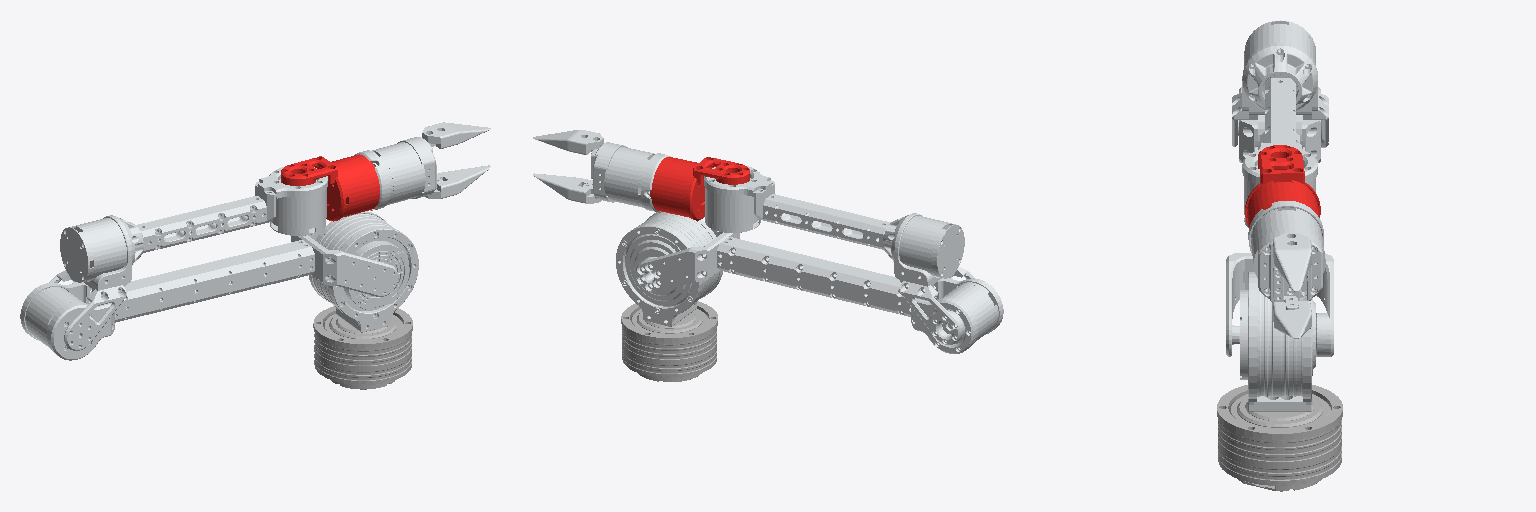
URDF robot description (a1_arm_v3):
<?xml version="1.0" encoding="utf-8"?>
<!-- This URDF was automatically created by SolidWorks to URDF Exporter! Originally created by [author] ([email redacted]) 
     Commit Version: 1.6.0-4-g7f85cfe  Build Version: 1.6.7995.38578
     For more information, please see http://wiki.ros.org/sw_urdf_exporter -->
<robot
  name="a1_arm_v3">
  <link
    name="arm_base_link">
    <inertial>
      <origin
        xyz="-5.0929E-05 -1.2945E-05 -0.017332"
        rpy="0 0 0" />
      <mass
        value="1.00" />
      <inertia
        ixx="0.00028666"
        ixy="-1.5892E-07"
        ixz="1.4172E-08"
        iyy="0.00028649"
        iyz="5.0884E-09"
        izz="0.00045899" />
    </inertial>
    <visual>
      <origin
        xyz="0 0 0"
        rpy="0 0 0" />
      <geometry>
        <mesh
          filename="package://a1_arm_v3/meshes/arm_base_link.STL" />
      </geometry>
      <material
        name="">
        <color
          rgba="0.75294 0.75294 0.75294 1" />
      </material>
    </visual>
    <collision>
      <origin
        xyz="0 0 0"
        rpy="0 0 0" />
      <geometry>
        <mesh
          filename="package://a1_arm_v3/meshes/arm_base_link.STL" />
      </geometry>
    </collision>
  </link>
  <link
    name="arm_seg1">
    <inertial>
      <origin
        xyz="0.0008545 -3.0801E-05 0.063737"
        rpy="0 0 0" />
      <mass
        value="1.322" />
      <inertia
        ixx="0.00056364"
        ixy="1.1493E-08"
        ixz="-9.7293E-09"
        iyy="0.00035434"
        iyz="3.8164E-09"
        izz="0.00033273" />
    </inertial>
    <visual>
      <origin
        xyz="0 0 0"
        rpy="0 0 0" />
      <geometry>
        <mesh
          filename="package://a1_arm_v3/meshes/arm_seg1.STL" />
      </geometry>
      <material
        name="">
        <color
          rgba="0.89804 0.91765 0.92941 1" />
      </material>
    </visual>
    <collision>
      <origin
        xyz="0 0 0"
        rpy="0 0 0" />
      <geometry>
        <mesh
          filename="package://a1_arm_v3/meshes/arm_seg1.STL" />
      </geometry>
    </collision>
  </link>
  <joint
    name="arm_joint1"
    type="revolute">
    <limit effort="87" lower="-3.14" upper="3.14" velocity="2" />
    <origin
      xyz="0 0 0"
      rpy="0 0 1.5708" />
    <parent
      link="arm_base_link" />
    <child
      link="arm_seg1" />
    <axis
      xyz="0 0 1" />
  </joint>
  <link
    name="arm_seg2">
    <inertial>
      <origin
        xyz="-0.038073 0.20611 0.021318"
        rpy="0 0 0" />
      <mass
        value="1.004" />
      <inertia
        ixx="0.0011899"
        ixy="-1.9281E-06"
        ixz="-9.3286E-07"
        iyy="0.00014197"
        iyz="-1.9731E-05"
        izz="0.0011288" />
    </inertial>
    <visual>
      <origin
        xyz="0 0 0"
        rpy="0 0 0" />
      <geometry>
        <mesh
          filename="package://a1_arm_v3/meshes/arm_seg2.STL" />
      </geometry>
      <material
        name="">
        <color
          rgba="0.89804 0.91765 0.92941 1" />
      </material>
    </visual>
    <collision>
      <origin
        xyz="0 0 0"
        rpy="0 0 0" />
      <geometry>
        <mesh
          filename="package://a1_arm_v3/meshes/arm_seg2.STL" />
      </geometry>
    </collision>
  </link>
  <joint
    name="arm_joint2"
    type="revolute">
    <limit effort="87" lower="-0.75" upper="3.14" velocity="2" />
    <origin
      xyz="0.0376 0 0.0682"
      rpy="0 0 0" />
    <parent
      link="arm_seg1" />
    <child
      link="arm_seg2" />
    <axis
      xyz="1 0 0" />
  </joint>
  <link
    name="arm_seg3">
    <inertial>
      <origin
        xyz="-0.028331 -0.042749 0.053055"
        rpy="0 0 0" />
      <mass
        value="0.55" />
      <inertia
        ixx="0.00014357"
        ixy="3.8639E-07"
        ixz="-2.7558E-07"
        iyy="0.00014734"
        iyz="3.5243E-05"
        izz="0.00013264" />
    </inertial>
    <visual>
      <origin
        xyz="0 0 0"
        rpy="0 0 0" />
      <geometry>
        <mesh
          filename="package://a1_arm_v3/meshes/arm_seg3.STL" />
      </geometry>
      <material
        name="">
        <color
          rgba="0.89804 0.91765 0.92941 1" />
      </material>
    </visual>
    <collision>
      <origin
        xyz="0 0 0"
        rpy="0 0 0" />
      <geometry>
        <mesh
          filename="package://a1_arm_v3/meshes/arm_seg3.STL" />
      </geometry>
    </collision>
  </link>
  <joint
    name="arm_joint3"
    type="revolute">
    <limit effort="87" lower="-3.14" upper="0" velocity="2" />
    <origin
      xyz="-0.009 0.3493 0.02"
      rpy="0 0 0" />
    <parent
      link="arm_seg2" />
    <child
      link="arm_seg3" />
    <axis
      xyz="1 0 0" />
  </joint>
  <link
    name="arm_seg4">
    <inertial>
      <origin
        xyz="0.164195772878017 -0.000144257331110971 -0.00282861774678392"
        rpy="0 0 0" />
      <mass
        value="0.52965" />
      <inertia
        ixx="5.61524305952142E-05"
        ixy="2.20927624304882E-08"
        ixz="2.21109495236373E-07"
        iyy="0.000201483544507516"
        iyz="-1.14174511452196E-08"
        izz="0.000215217228329719" />
    </inertial>
    <visual>
      <origin
        xyz="0 0 0"
        rpy="0 0 0" />
      <geometry>
        <mesh
          filename="package://a1_arm_v3/meshes/arm_seg4.STL" />
      </geometry>
      <material
        name="">
        <color
          rgba="0.898039215686275 0.917647058823529 0.929411764705882 1" />
      </material>
    </visual>
    <collision>
      <origin
        xyz="0 0 0"
        rpy="0 0 0" />
      <geometry>
        <mesh
          filename="package://a1_arm_v3/meshes/arm_seg4.STL" />
      </geometry>
    </collision>
  </link>
  <joint
    name="arm_joint4"
    type="revolute">
    <limit effort="87" lower="-3.14" upper="3.14" velocity="2" />
    <origin
      xyz="-0.028342 -0.060749 0.07"
      rpy="-3.1416 0 -1.5708" />
    <parent
      link="arm_seg3" />
    <child
      link="arm_seg4" />
    <axis
      xyz="1 0 0" />
  </joint>
  <link
    name="arm_seg5">
    <inertial>
      <origin
        xyz="-0.013523043573808 -0.045272390264418 -0.00257409930457567"
        rpy="0 0 0" />
      <mass
        value="0.60055" />
      <inertia
        ixx="5.19121015639072E-05"
        ixy="3.87238896808265E-07"
        ixz="-6.54782717588787E-10"
        iyy="5.64197063102711E-05"
        iyz="4.80851622148796E-07"
        izz="4.75671436115134E-05" />
    </inertial>
    <visual>
      <origin
        xyz="0 0 0"
        rpy="0 0 0" />
      <geometry>
        <mesh
          filename="package://a1_arm_v3/meshes/arm_seg5.STL" />
      </geometry>
      <material
        name="">
        <color
          rgba="1 0.235294117647059 0.215686274509804 1" />
      </material>
    </visual>
    <collision>
      <origin
        xyz="0 0 0"
        rpy="0 0 0" />
      <geometry>
        <mesh
          filename="package://a1_arm_v3/meshes/arm_seg5.STL" />
      </geometry>
    </collision>
  </link>
  <joint
    name="arm_joint5"
    type="revolute">
    <limit effort="87" lower="-1.57" upper="1.57" velocity="2" />
    <origin
      xyz="0.2132 0 -0.02"
      rpy="-1.5708 1.5708 0" />
    <parent
      link="arm_seg4" />
    <child
      link="arm_seg5" />
    <axis
      xyz="1 0 0" />
  </joint>
  <link
      name="arm_seg6">
      <inertial>
        <origin
          xyz="0.023 -5.91070298915364E-05 0.0698233052867751"
          rpy="0 1.5708 0" />
        <mass
          value="0.57369602772606" />
        <inertia
          ixx="5.26233658899888E-05"
          ixy="-1.67191644321457E-07"
          ixz="-1.90985806143316E-13"
          iyy="5.28870073911995E-05"
          iyz="1.1420882588032E-08"
          izz="6.41349889047125E-05" />
      </inertial>
      <visual>
        <origin
          xyz="0.023 0 0"
          rpy="0 1.5708 0" />
        <geometry>
          <mesh
            filename="package://a1_arm_v3/meshes/arm_seg6.STL" />
        </geometry>
        <material
          name="">
          <color
            rgba="0.898039215686275 0.917647058823529 0.929411764705882 1" />
        </material>
      </visual>
      <collision>
        <origin
          xyz="0.023 0 0"
          rpy="0 1.5708 0" />
        <geometry>
          <mesh
            filename="package://a1_arm_v3/meshes/arm_seg6.STL" />
        </geometry>
      </collision>
    </link>
  <joint
    name="arm_joint6"
    type="revolute">
    <limit effort="87" lower="-3.14" upper="3.14" velocity="2" />
    <origin
      xyz="-0.02 -0.035945 -0.001993"
      rpy="-1.5708 0.055388 -1.5708" />
    <parent
      link="arm_seg5" />
    <child
      link="arm_seg6" />
    <axis
      xyz="-1 0 0" />
  </joint>
</robot>

--- Render facts (derived) ---
Views: 3 orthographic renders of the robot side by side, from view 1: azimuth 30°, elevation 25°; view 2: azimuth 150°, elevation 25°; view 3: azimuth 270°, elevation 25°.
Model a1_arm_v3 with 7 links and 6 joints (6 revolute), rooted at arm_base_link, posed all joints at 0.
Visible links, largest first — view 1: arm_seg2, arm_seg4, arm_seg3, arm_seg1, arm_base_link, arm_seg6, arm_seg5; view 2: arm_seg2, arm_seg4, arm_seg3, arm_seg1, arm_base_link, arm_seg6, arm_seg5; view 3: arm_base_link, arm_seg6, arm_seg1, arm_seg3, arm_seg2, arm_seg5, arm_seg4.
Link boxes in pixels (box(x1,y1,x2,y2)): arm_seg2: box(20, 231, 398, 360); arm_seg4: box(136, 167, 327, 252); arm_seg3: box(49, 215, 143, 350); arm_seg1: box(309, 211, 418, 332); arm_base_link: box(313, 306, 412, 389); arm_seg6: box(355, 122, 490, 210); arm_seg5: box(281, 154, 379, 221); arm_seg2: box(635, 229, 1003, 353); arm_seg4: box(704, 166, 890, 249); arm_seg3: box(883, 213, 975, 344); arm_seg1: box(616, 211, 722, 326); arm_base_link: box(621, 301, 717, 381); arm_seg6: box(533, 130, 670, 211); arm_seg5: box(650, 157, 749, 220); arm_base_link: box(1217, 385, 1342, 491); arm_seg6: box(1248, 201, 1325, 338); arm_seg1: box(1240, 272, 1315, 411); arm_seg3: box(1232, 20, 1328, 147); arm_seg2: box(1226, 87, 1333, 356); arm_seg5: box(1245, 145, 1320, 226); arm_seg4: box(1242, 78, 1317, 227).
Size in the robot's own frame: 0.5342 by 0.1 by 0.2448 metres.
Meshes: 7 distinct files referenced, 7 mesh visuals loaded (7 binary STL).
